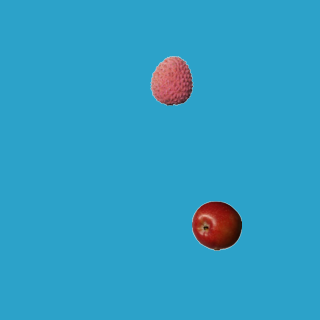Apple Braeburn: (191, 200, 241, 250)
Lychee: (146, 55, 196, 105)
